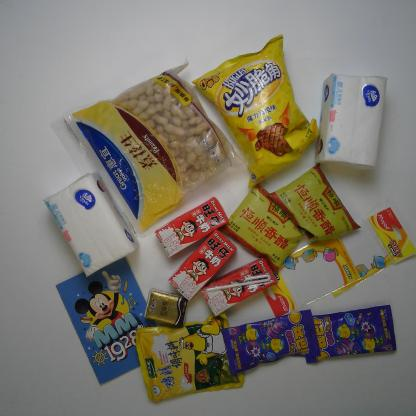Candy: (219, 308, 322, 377), (302, 304, 399, 366)
Dried Food: (51, 57, 244, 235)
Milk: (168, 228, 238, 301), (154, 197, 230, 256), (200, 259, 278, 315)
Puffed Food: (193, 35, 322, 190)
Seasoner: (133, 315, 246, 403), (224, 181, 307, 272), (269, 164, 361, 244)
Stationery: (53, 256, 160, 386), (257, 235, 362, 319), (324, 208, 416, 299)
Tissue: (41, 171, 140, 276), (318, 73, 387, 173), (141, 288, 190, 326)
